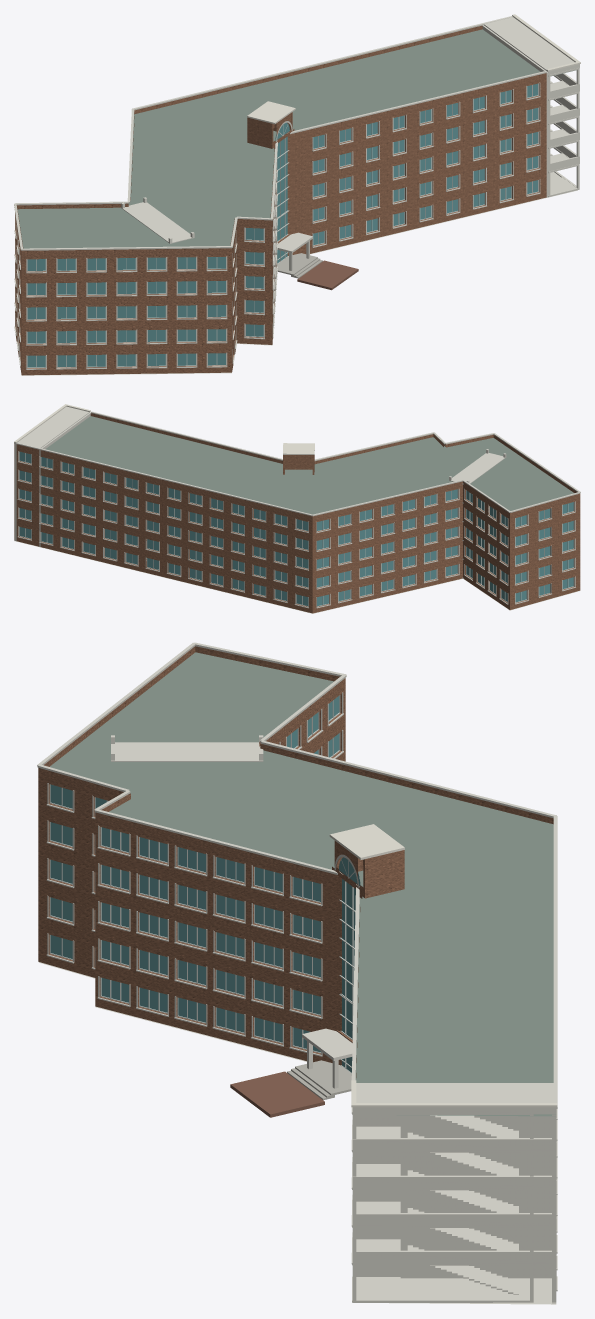
The picture shows the model from 3 angles, top to bottom: view 1: azimuth 30°, elevation 25°; view 2: azimuth 150°, elevation 25°; view 3: azimuth 270°, elevation 25°; orthographic projection. The views are drawn at different scales.
Visible parts, largest first — view 1: main-ring-floor-18.25, front-right-small-windows__wall, outer-estimated-06__wall, outer-estimated-06__window__glass, front-right-small-windows__window__glass, window-stone-cheeks, roof-coping, window-stone-sills, outer-estimated-04__wall, bend-plain-brick-wall__wall, east-stair-roof-cap, outer-estimated-06__window__frame (+20 smaller); view 2: main-ring-floor-18.25, outer-estimated-10__wall, outer-estimated-09__wall, outer-estimated-10__window__glass, outer-estimated-07__wall, window-stone-cheeks, outer-estimated-09__window__glass, window-stone-sills, outer-estimated-08__wall, roof-coping, outer-estimated-10__window__frame, outer-estimated-07__window__glass (+20 smaller); view 3: main-ring-floor-18.25, front-left-paired-windows__wall, front-left-paired-windows__window__glass, east-stair-rear-end-wall, east-stair-side-parapets, outer-estimated-05__wall, roof-coping, east-stair-flight-treads, east-stair-roof-cap, window-stone-cheeks, window-stone-sills, main-ring-floor-0 (+19 smaller).
Part boxes in pixels (<box>): main-ring-floor-18.25: <box>17,29,576,248</box>; front-right-small-windows__wall: <box>306,73,546,253</box>; outer-estimated-06__wall: <box>21,248,231,375</box>; outer-estimated-06__window__glass: <box>27,257,225,367</box>; front-right-small-windows__window__glass: <box>313,83,537,245</box>; window-stone-cheeks: <box>15,82,540,368</box>; roof-coping: <box>14,16,546,250</box>; window-stone-sills: <box>14,96,540,369</box>; outer-estimated-04__wall: <box>237,219,272,344</box>; bend-plain-brick-wall__wall: <box>287,130,305,255</box>; east-stair-roof-cap: <box>484,17,574,70</box>; outer-estimated-06__window__frame: <box>27,257,226,367</box>; main-ring-floor-18.25: <box>45,416,573,514</box>; outer-estimated-10__wall: <box>14,444,312,613</box>; outer-estimated-09__wall: <box>312,481,462,613</box>; outer-estimated-10__window__glass: <box>19,451,308,605</box>; outer-estimated-07__wall: <box>510,493,580,609</box>; window-stone-cheeks: <box>18,451,575,607</box>; outer-estimated-09__window__glass: <box>317,489,457,606</box>; window-stone-sills: <box>17,461,575,608</box>; outer-estimated-08__wall: <box>463,482,509,609</box>; roof-coping: <box>14,411,580,516</box>; outer-estimated-10__window__frame: <box>19,451,308,606</box>; outer-estimated-07__window__glass: <box>515,502,573,602</box>; main-ring-floor-18.25: <box>50,652,555,1116</box>; front-left-paired-windows__wall: <box>95,812,341,1065</box>; front-left-paired-windows__window__glass: <box>101,827,320,1052</box>; east-stair-rear-end-wall: <box>356,1115,551,1278</box>; east-stair-side-parapets: <box>352,1107,556,1263</box>; outer-estimated-05__wall: <box>38,768,130,977</box>; roof-coping: <box>37,642,557,1108</box>; east-stair-flight-treads: <box>407,1115,518,1294</box>; east-stair-roof-cap: <box>356,1083,553,1102</box>; window-stone-cheeks: <box>47,692,556,1289</box>; window-stone-sills: <box>46,713,557,1291</box>; main-ring-floor-0: <box>39,962,556,1304</box>.
Size of the model in its own units: 96.71 by 22.72 by 45.78.
8 materials, 1 textured.
